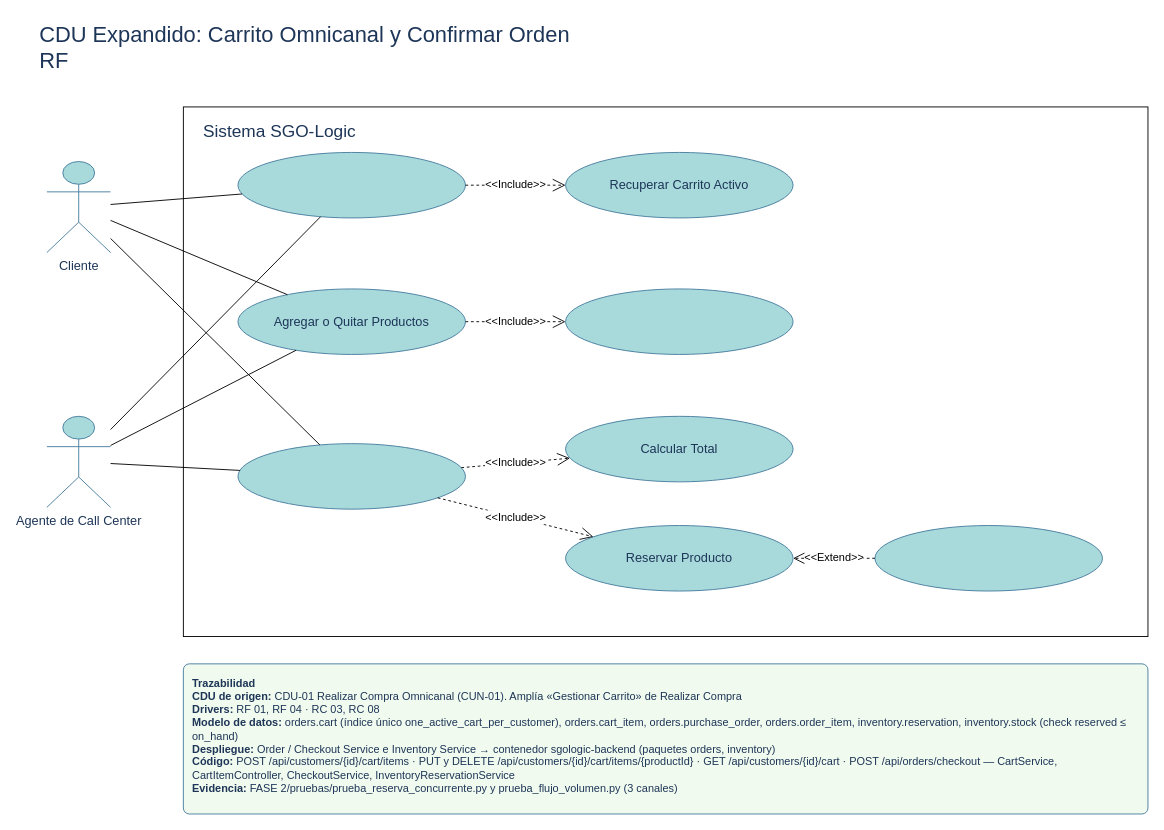
The diagram is 1164 pixels wide and 830 high, and some of its shapes have lost their labels. Here are the shapes that lost their labels. From the top down, the centre of each, then its label:
At pixel 351 185: "Continuar Compra en Otro Canal".
At pixel 679 321: "Verificar Disponibilidad".
At pixel 351 476: "Confirmar Orden".
At pixel 988 558: "Rechazar por Falta de Stock".
